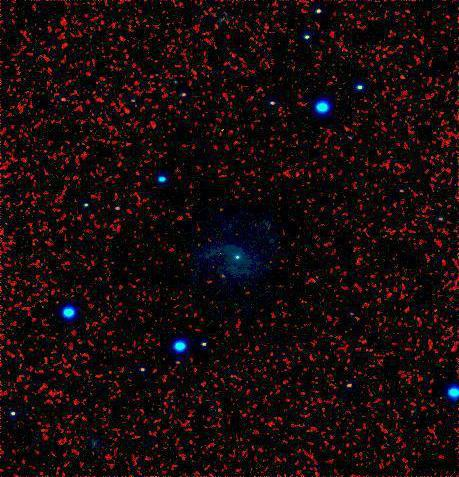star: (207, 264, 237, 294)
